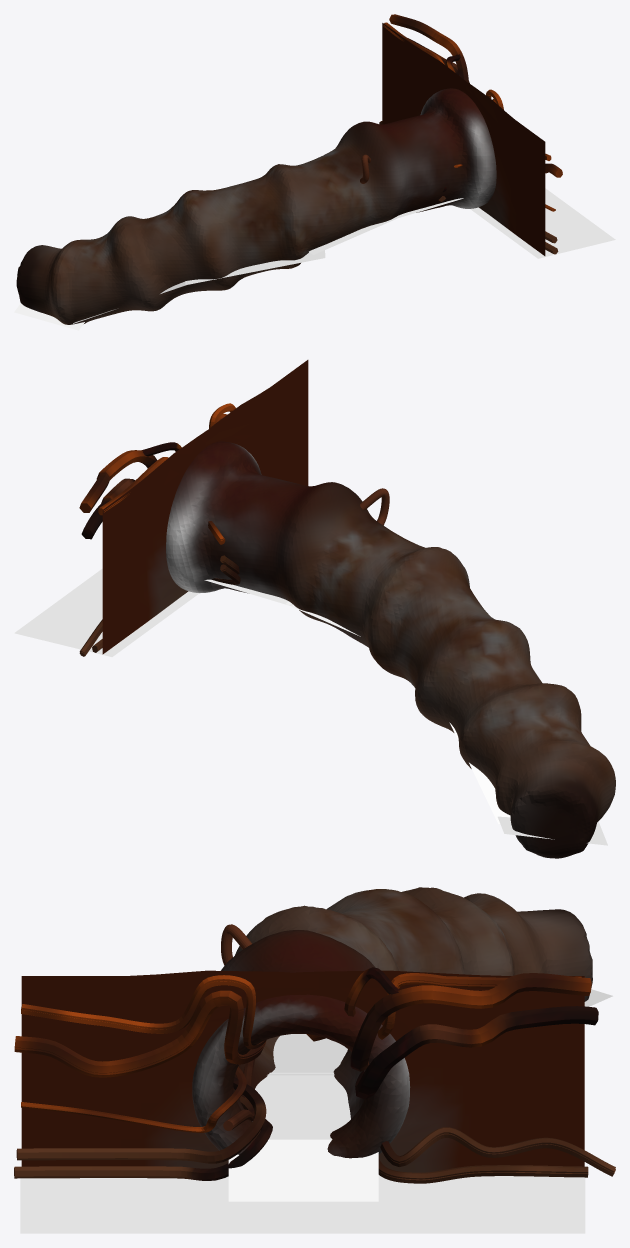
File: Salle eau test 3.fbx
3 renders of one model, top to bottom at view 1: azimuth 30°, elevation 25°; view 2: azimuth 150°, elevation 25°; view 3: azimuth 270°, elevation 25°, orthographic. The views are drawn at different scales.
Parts seen in each view (by area): view 1: Tore 3, Plan 1, Plan 2, Reference quai, Tube 4, Faux sols à effacer 4, Faux sols à effacer 2, Faux sols à effacer 5; view 2: Tore 3, Plan 2, Plan 1, Reference quai, Tube 4, Tube 49; view 3: Tore 3, Plan 1, Reference quai, Plan 2, Faux sols à effacer 1, Faux sols à effacer 6, Tube 4, Tube 49, Tube 8, Tube 53, Tube 7, Faux sols à effacer 5 (+12 smaller).
Boxes of the visible parts, box(x1,y1,x2,y2) form: Tore 3: box(16, 88, 496, 324); Plan 1: box(463, 82, 545, 255); Plan 2: box(382, 23, 466, 124); Reference quai: box(470, 188, 615, 258); Tube 4: box(389, 14, 468, 82); Faux sols à effacer 4: box(185, 250, 325, 285); Faux sols à effacer 2: box(14, 303, 84, 330); Faux sols à effacer 5: box(309, 215, 400, 254); Tore 3: box(166, 441, 615, 858); Plan 2: box(102, 430, 207, 654); Plan 1: box(204, 360, 308, 485); Reference quai: box(14, 568, 199, 656); Tube 4: box(79, 450, 157, 512); Tube 49: box(81, 478, 134, 539); Tore 3: box(192, 887, 592, 1158); Plan 1: box(21, 970, 319, 1168); Reference quai: box(20, 1175, 585, 1233); Plan 2: box(296, 970, 584, 1172); Faux sols à effacer 1: box(228, 1139, 378, 1201); Faux sols à effacer 6: box(255, 1072, 350, 1139); Tube 4: box(350, 973, 591, 1071); Tube 49: box(355, 1006, 598, 1099); Tube 8: box(16, 1077, 266, 1163); Tube 53: box(14, 1096, 272, 1180); Tube 7: box(14, 990, 265, 1073); Faux sols à effacer 5: box(267, 1034, 347, 1075).
Size of the model in its own units: 13.9 by 6.1 by 9.22.
